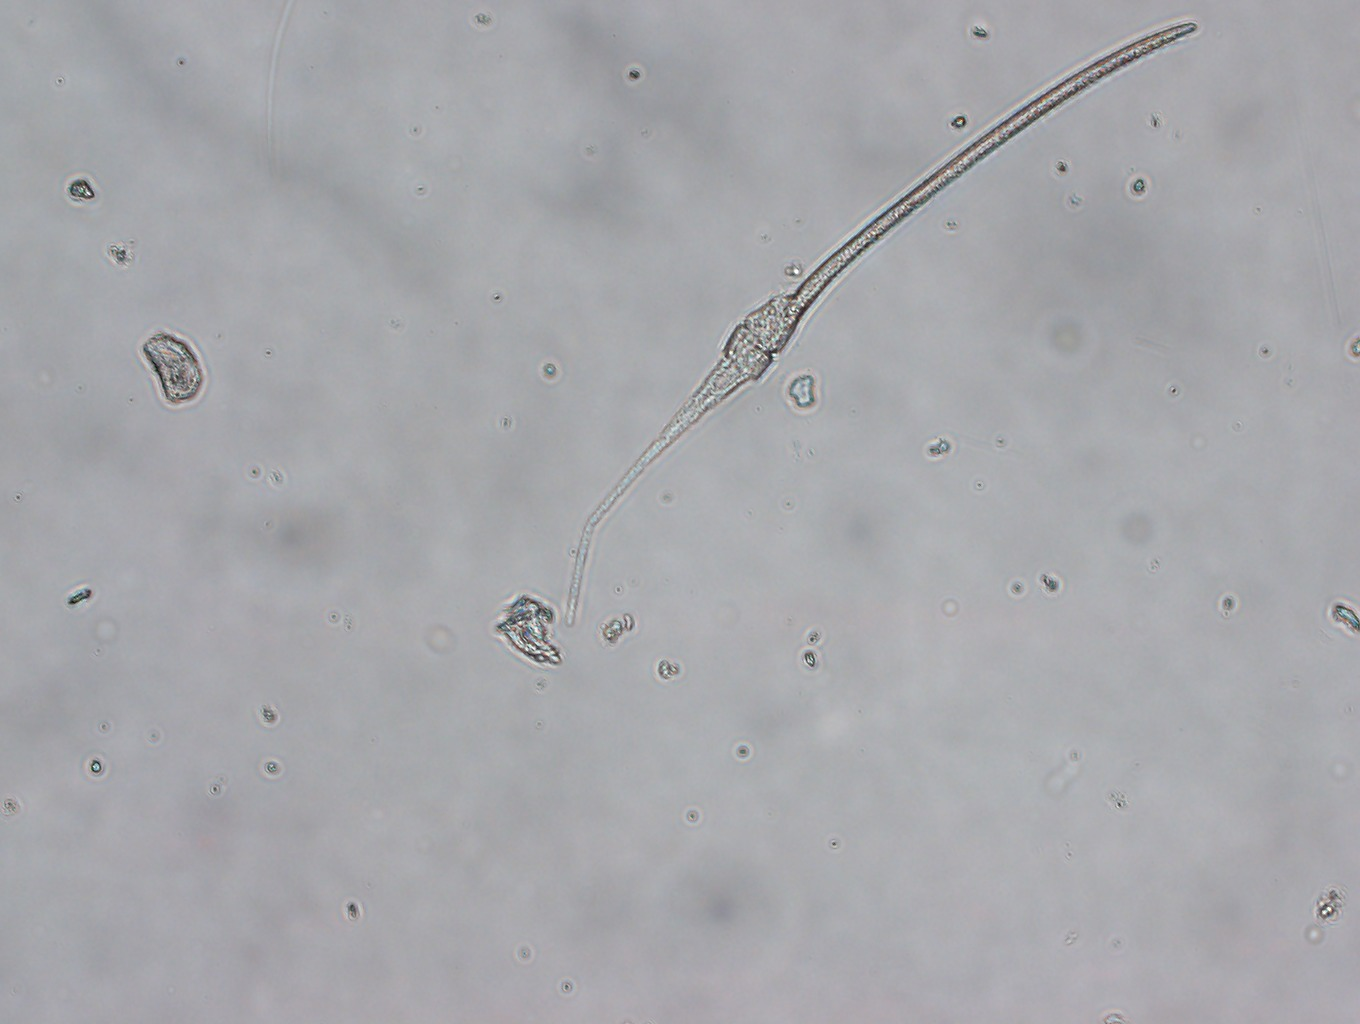ceratium fusus: (557, 12, 1203, 630)
